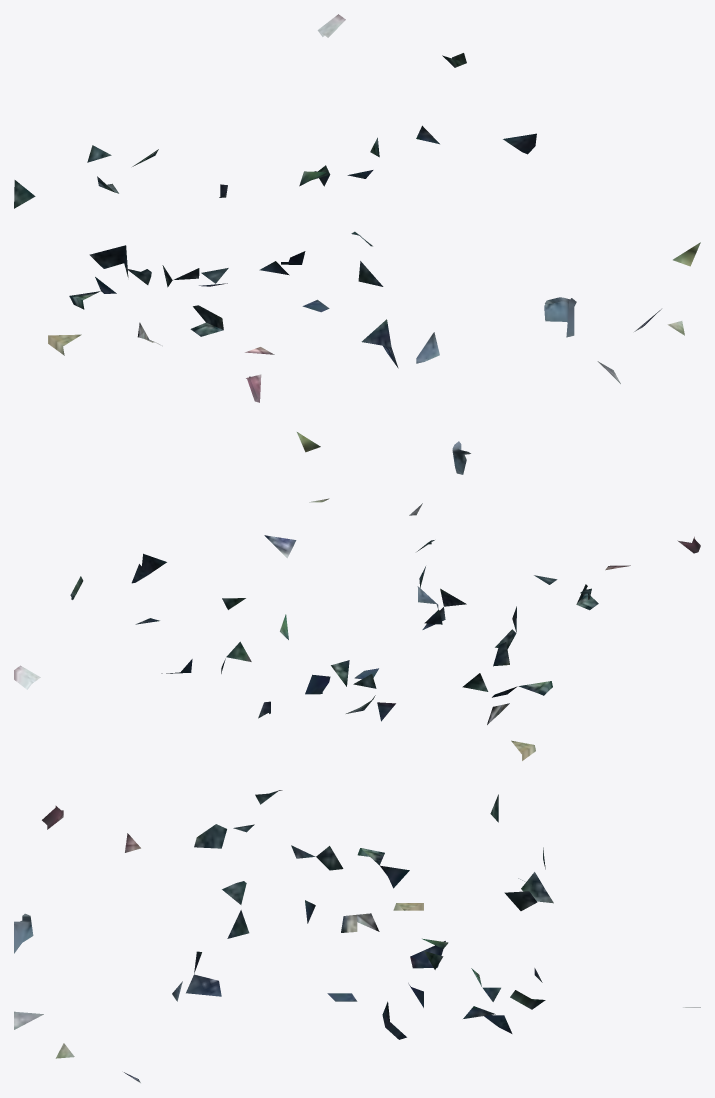
3 renders of one model, top to bottom at view 1: azimuth 30°, elevation 25°; view 2: azimuth 150°, elevation 25°; view 3: azimuth 270°, elevation 25°, orthographic. The views are drawn at different scales.
Visible parts, largest first — view 1: 30436272704361507513_1; view 2: 30436272704361507513_1; view 3: 30436272704361507513_1.
Boxes of the visible parts, x1,y1,x2,y2 form: 30436272704361507513_1: [14, 14, 700, 402]; 30436272704361507513_1: [14, 432, 700, 760]; 30436272704361507513_1: [14, 790, 700, 1083].
Bounding box in the file's own units: 27.31 × 7.86 × 38.26.
1 material, 1 textured.
